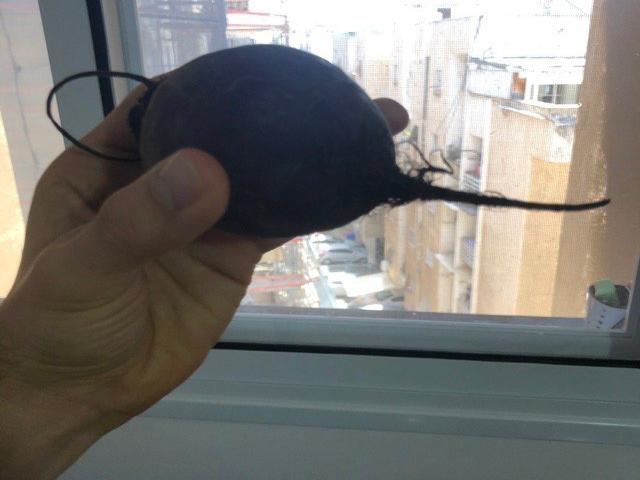beet: (48, 44, 612, 237)
